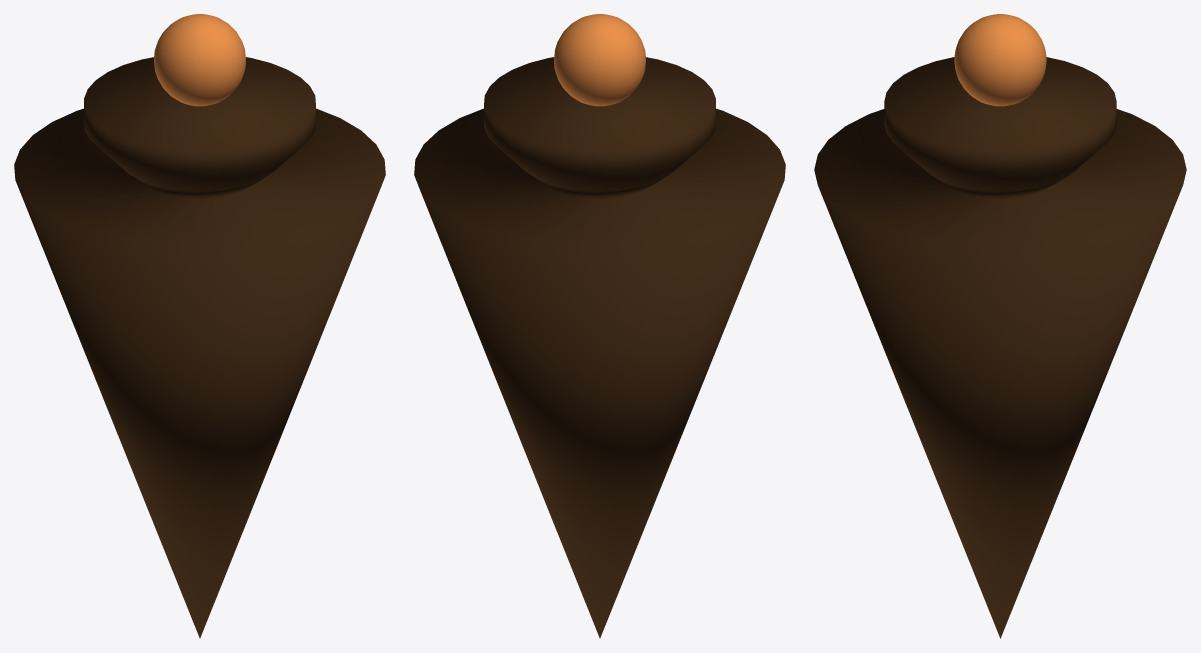
Rendered from Light.fbx.
3 views of the same model, side by side, from view 1: azimuth 30°, elevation 25°; view 2: azimuth 150°, elevation 25°; view 3: azimuth 270°, elevation 25° (orthographic).
Visible parts, largest first — view 1: Cone, Sphere; view 2: Cone, Sphere; view 3: Cone, Sphere.
Boxes of the visible parts, <box> form: Cone: <box>14,57,385,638</box>; Sphere: <box>154,14,245,106</box>; Cone: <box>414,57,785,638</box>; Sphere: <box>554,14,645,106</box>; Cone: <box>814,57,1186,638</box>; Sphere: <box>954,14,1046,106</box>.
Size of the model in its own units: 73.37 by 135 by 73.37.
